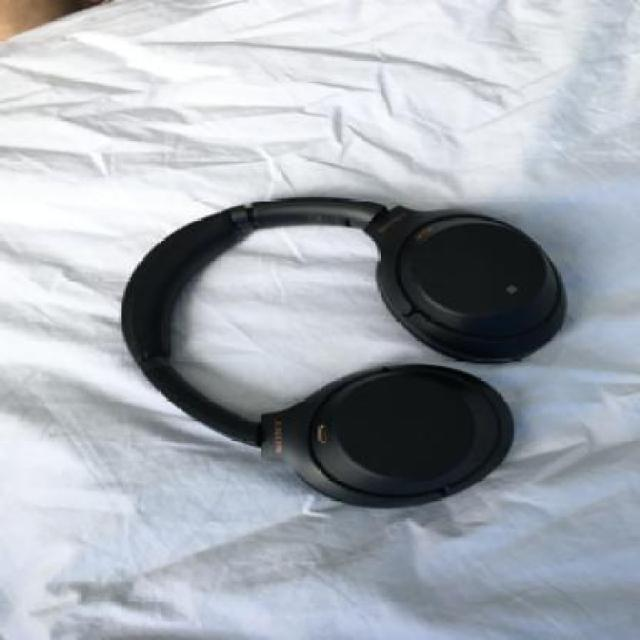earphone: (175, 152, 580, 530)
